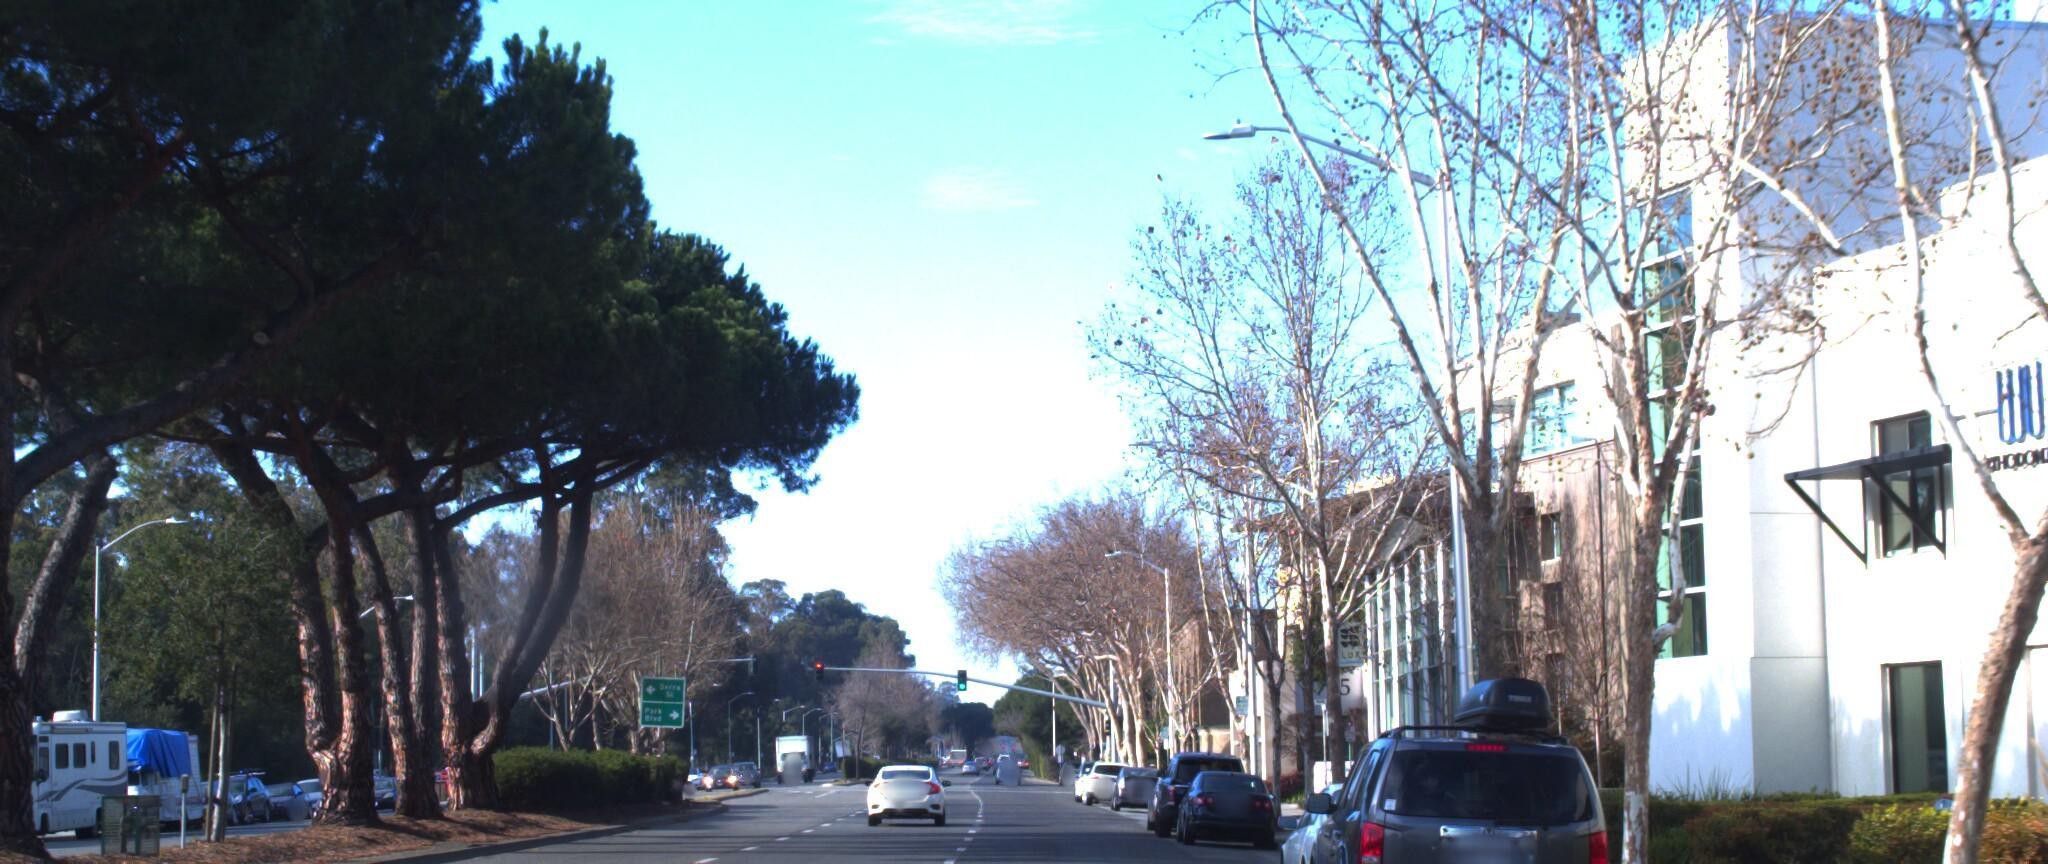car: (1292, 658, 1642, 864), (1273, 761, 1505, 864), (1165, 760, 1275, 844), (865, 749, 957, 817)
other_vehicle: (0, 697, 154, 851)
